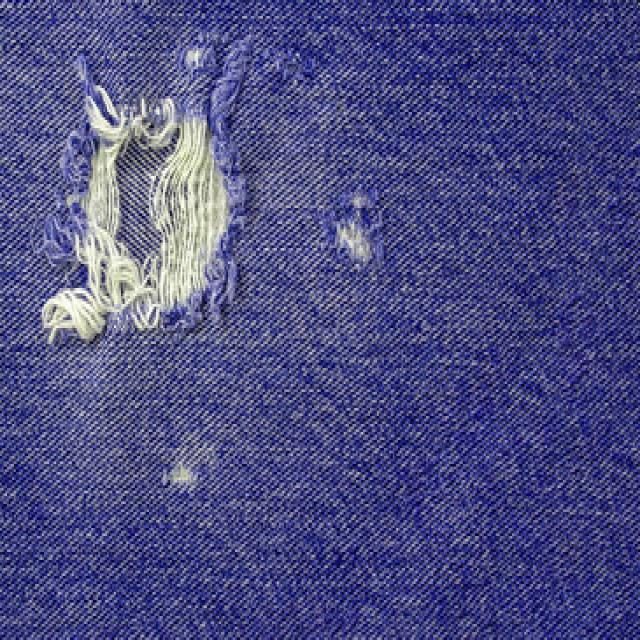Hole: (42, 40, 248, 342), (337, 192, 383, 268), (178, 30, 221, 72), (163, 462, 197, 490)
